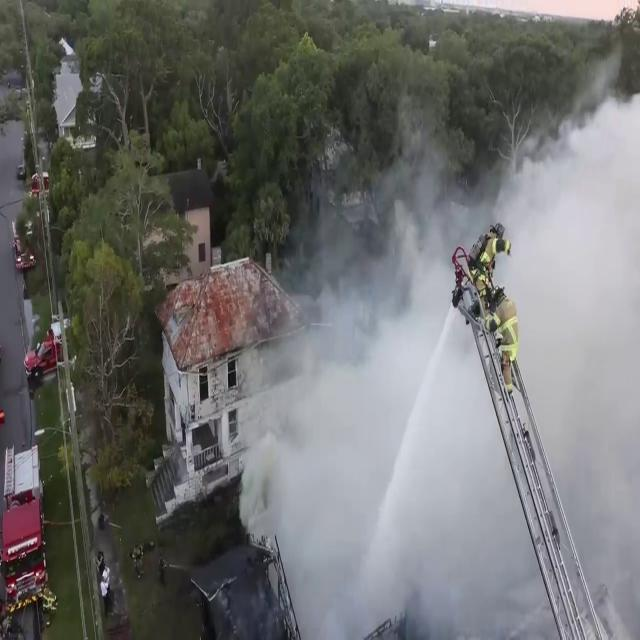Smoke: (267, 362, 508, 640)
